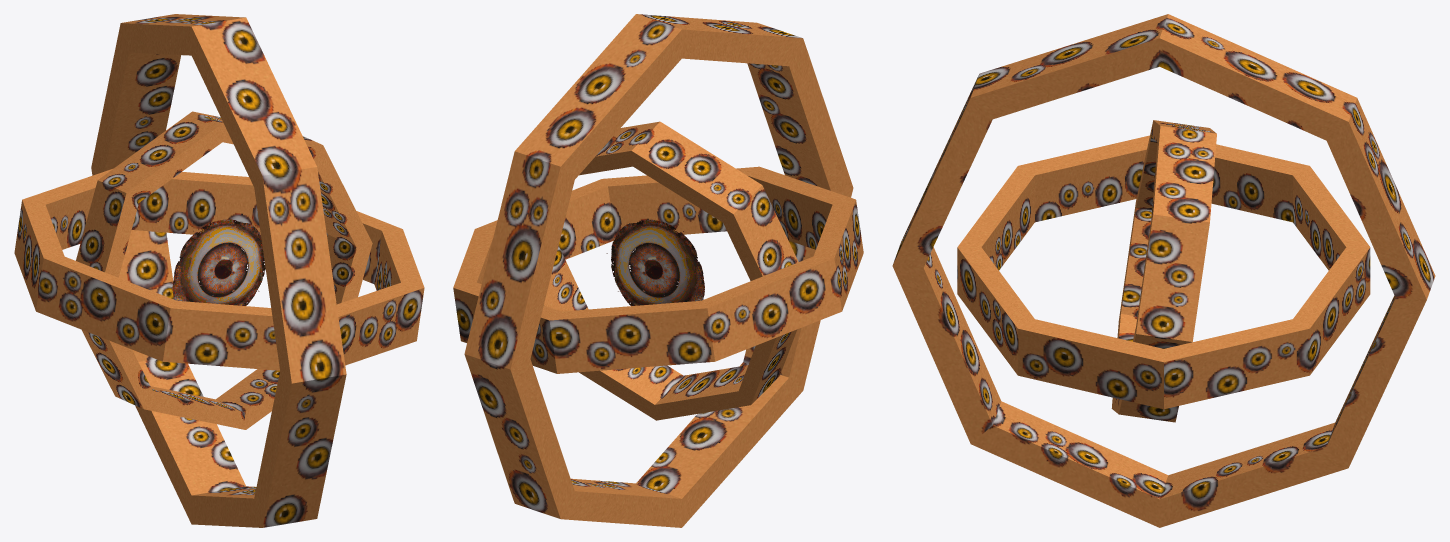
The model's file is ophanim_000002.obj.
The picture shows the model from 3 angles, left to right: view 1: azimuth 30°, elevation 25°; view 2: azimuth 150°, elevation 25°; view 3: azimuth 270°, elevation 25°; orthographic projection.
Visible parts, largest first — view 1: Ring3, Ring2, Ring1, Eye; view 2: Ring3, Ring2, Ring1, Eye; view 3: Ring3, Ring2, Ring1.
Boxes of the visible parts, bbox=[...] form: Ring3: bbox=[91, 14, 346, 527]; Ring2: bbox=[14, 169, 424, 370]; Ring1: bbox=[76, 111, 372, 429]; Eye: bbox=[172, 219, 265, 305]; Ring3: bbox=[464, 14, 853, 527]; Ring2: bbox=[453, 166, 863, 373]; Ring1: bbox=[544, 121, 798, 420]; Eye: bbox=[606, 219, 704, 305]; Ring3: bbox=[892, 14, 1435, 527]; Ring2: bbox=[957, 135, 1370, 409]; Ring1: bbox=[1111, 120, 1216, 422].
Size of the model in its own units: 0.2675 by 0.3468 by 0.3485.
Materials: 2 (2 with a texture image).
